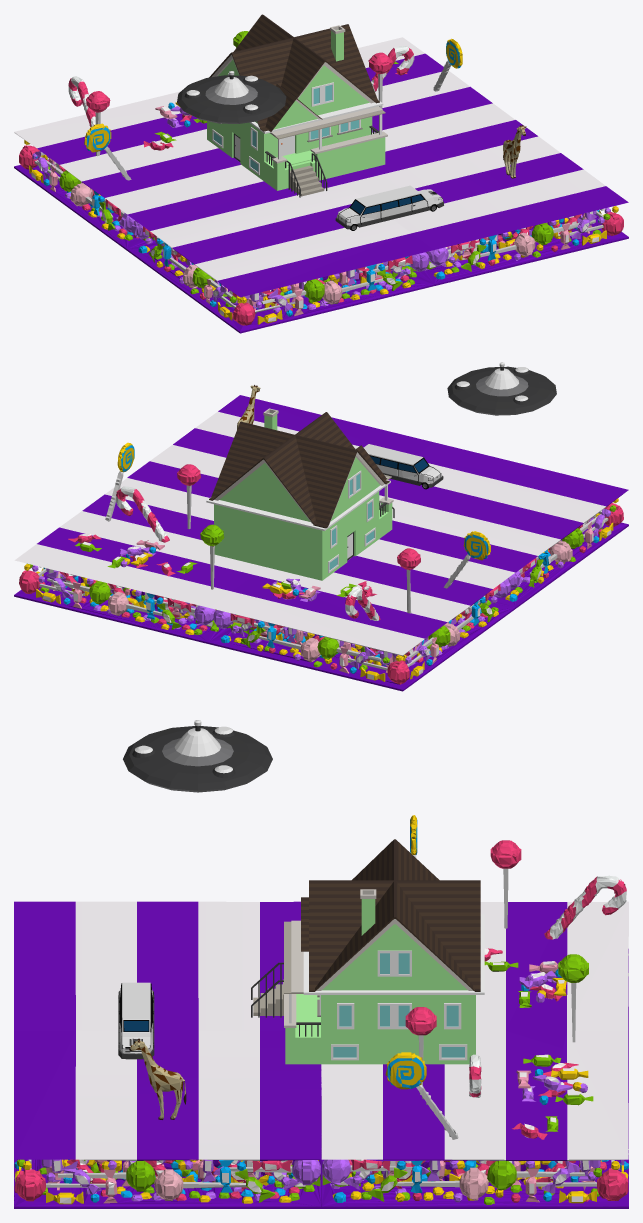
The picture shows the model from 3 angles, top to bottom: view 1: azimuth 30°, elevation 25°; view 2: azimuth 150°, elevation 25°; view 3: azimuth 270°, elevation 25°; orthographic projection. The views are drawn at different scales.
Visible parts, largest first — view 1: TERRAIN_CANDY, Cube.274, OBJRANDOM_UFO, VEHICLES_LIMOUSINE, ANIMAL_JIRAFA; view 2: TERRAIN_CANDY, Cube.274, OBJRANDOM_UFO, VEHICLES_LIMOUSINE; view 3: TERRAIN_CANDY, Cube.274, OBJRANDOM_UFO, VEHICLES_LIMOUSINE, ANIMAL_JIRAFA.
Part boxes in pixels (x1,y1,x2,y2): TERRAIN_CANDY: (14,31,628,333); Cube.274: (207,14,387,197); OBJRANDOM_UFO: (177,71,286,123); VEHICLES_LIMOUSINE: (335,185,443,230); ANIMAL_JIRAFA: (503,125,526,178); TERRAIN_CANDY: (14,395,628,691); Cube.274: (206,408,394,580); OBJRANDOM_UFO: (447,362,556,415); VEHICLES_LIMOUSINE: (355,444,443,489); TERRAIN_CANDY: (14,815,628,1208); Cube.274: (251,839,484,1064); OBJRANDOM_UFO: (123,720,272,792); VEHICLES_LIMOUSINE: (118,982,154,1059); ANIMAL_JIRAFA: (129,1038,186,1119).
Bounding box in the file's own units: 4059 × 2014 × 4000.
Materials: 36 (2 with a texture image).
